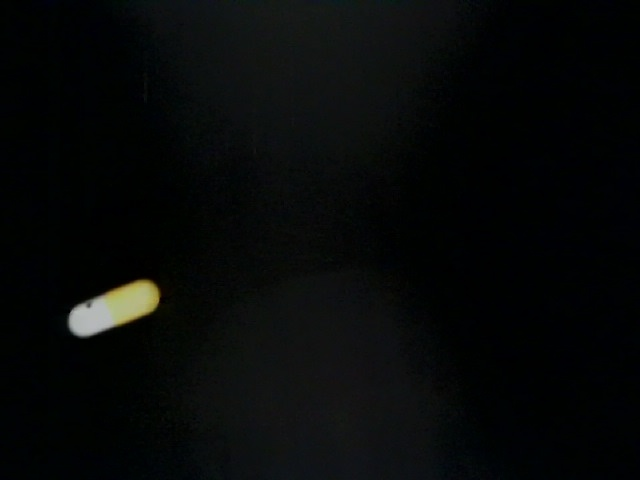YHLJ: (330, 83, 415, 163)
